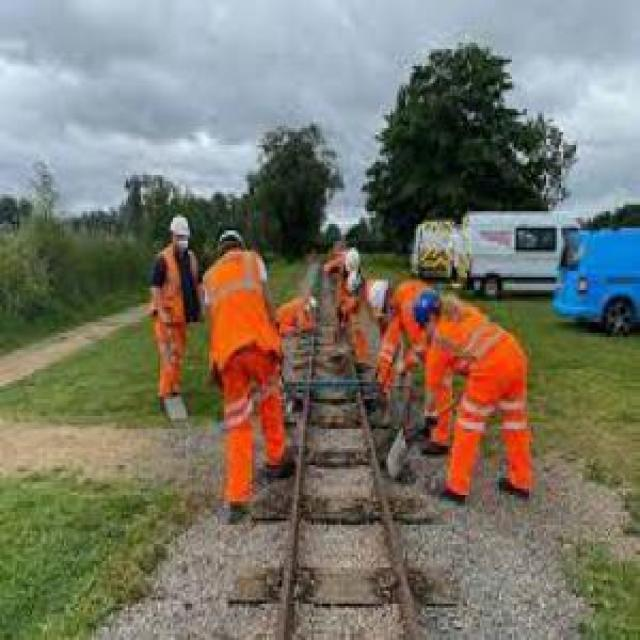danger: (194, 224, 295, 521), (412, 294, 531, 508), (366, 263, 443, 400), (154, 211, 202, 429), (323, 244, 364, 334), (276, 283, 317, 340)
rail: (201, 251, 477, 639)
